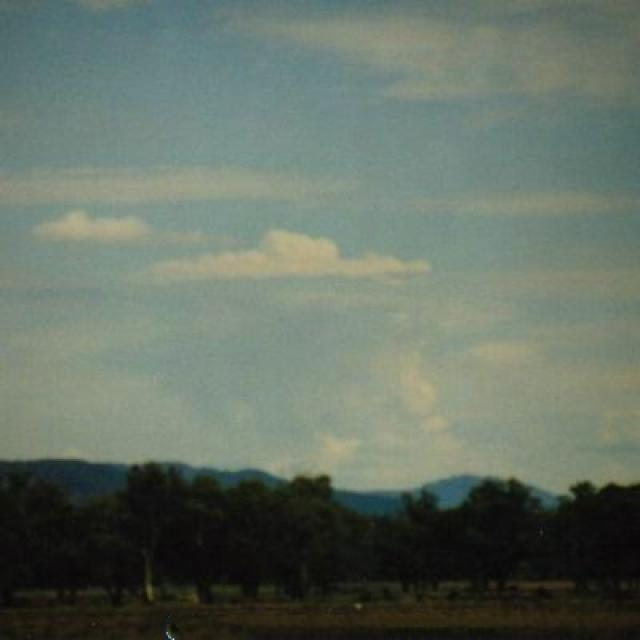Cs: (1, 1, 640, 417)
